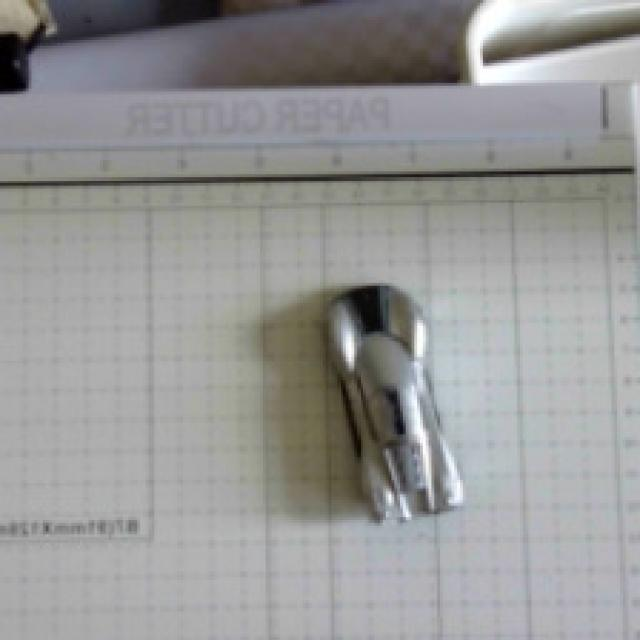Grey Car: (252, 233, 520, 554)
